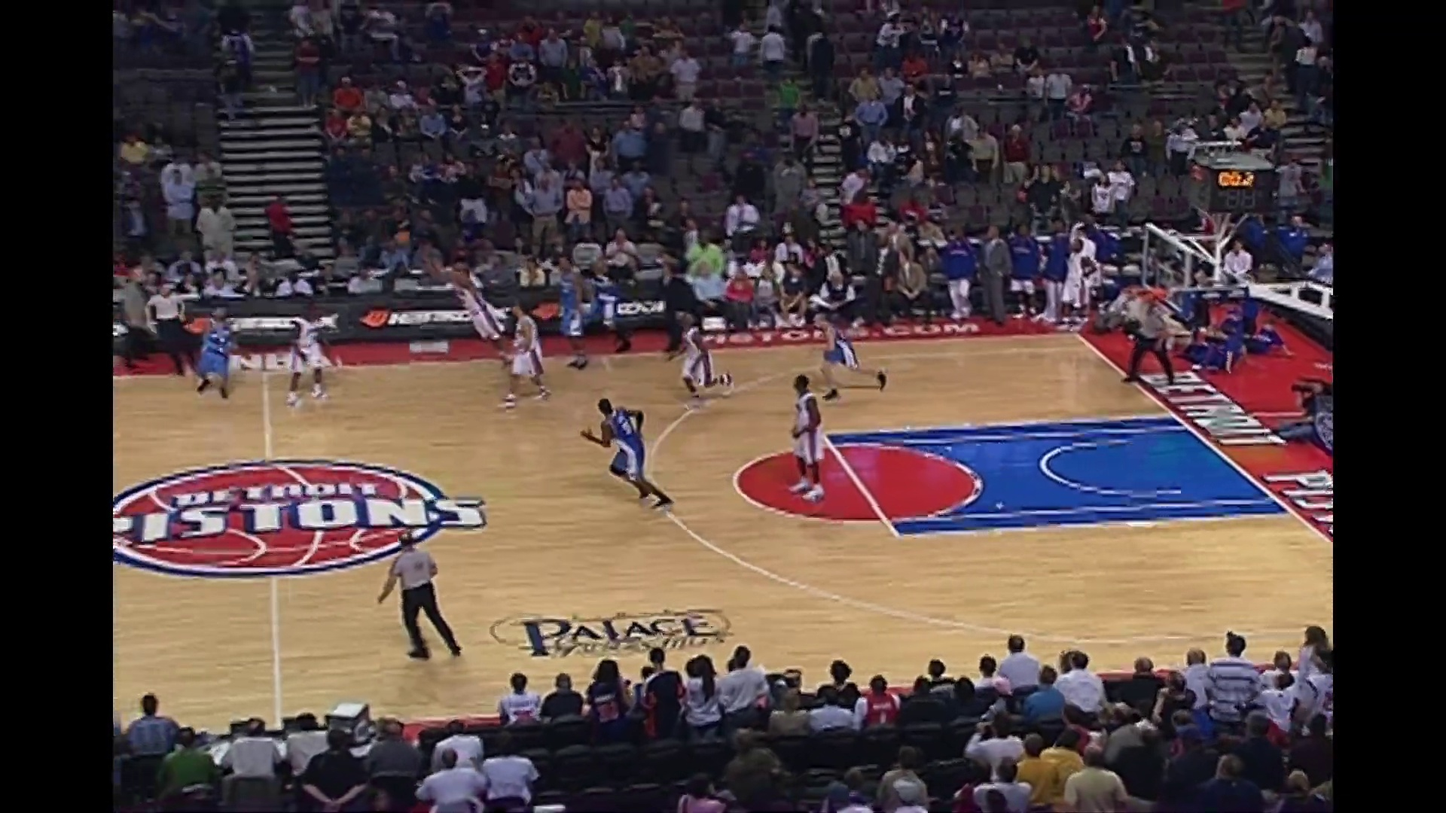basket_hoop: (1086, 210, 1210, 339)
